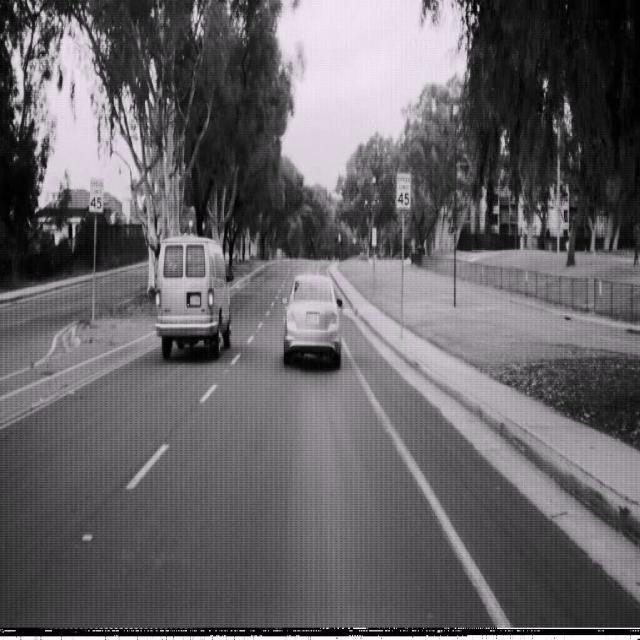speedLimit45: (396, 169, 411, 210), (88, 174, 104, 212)
